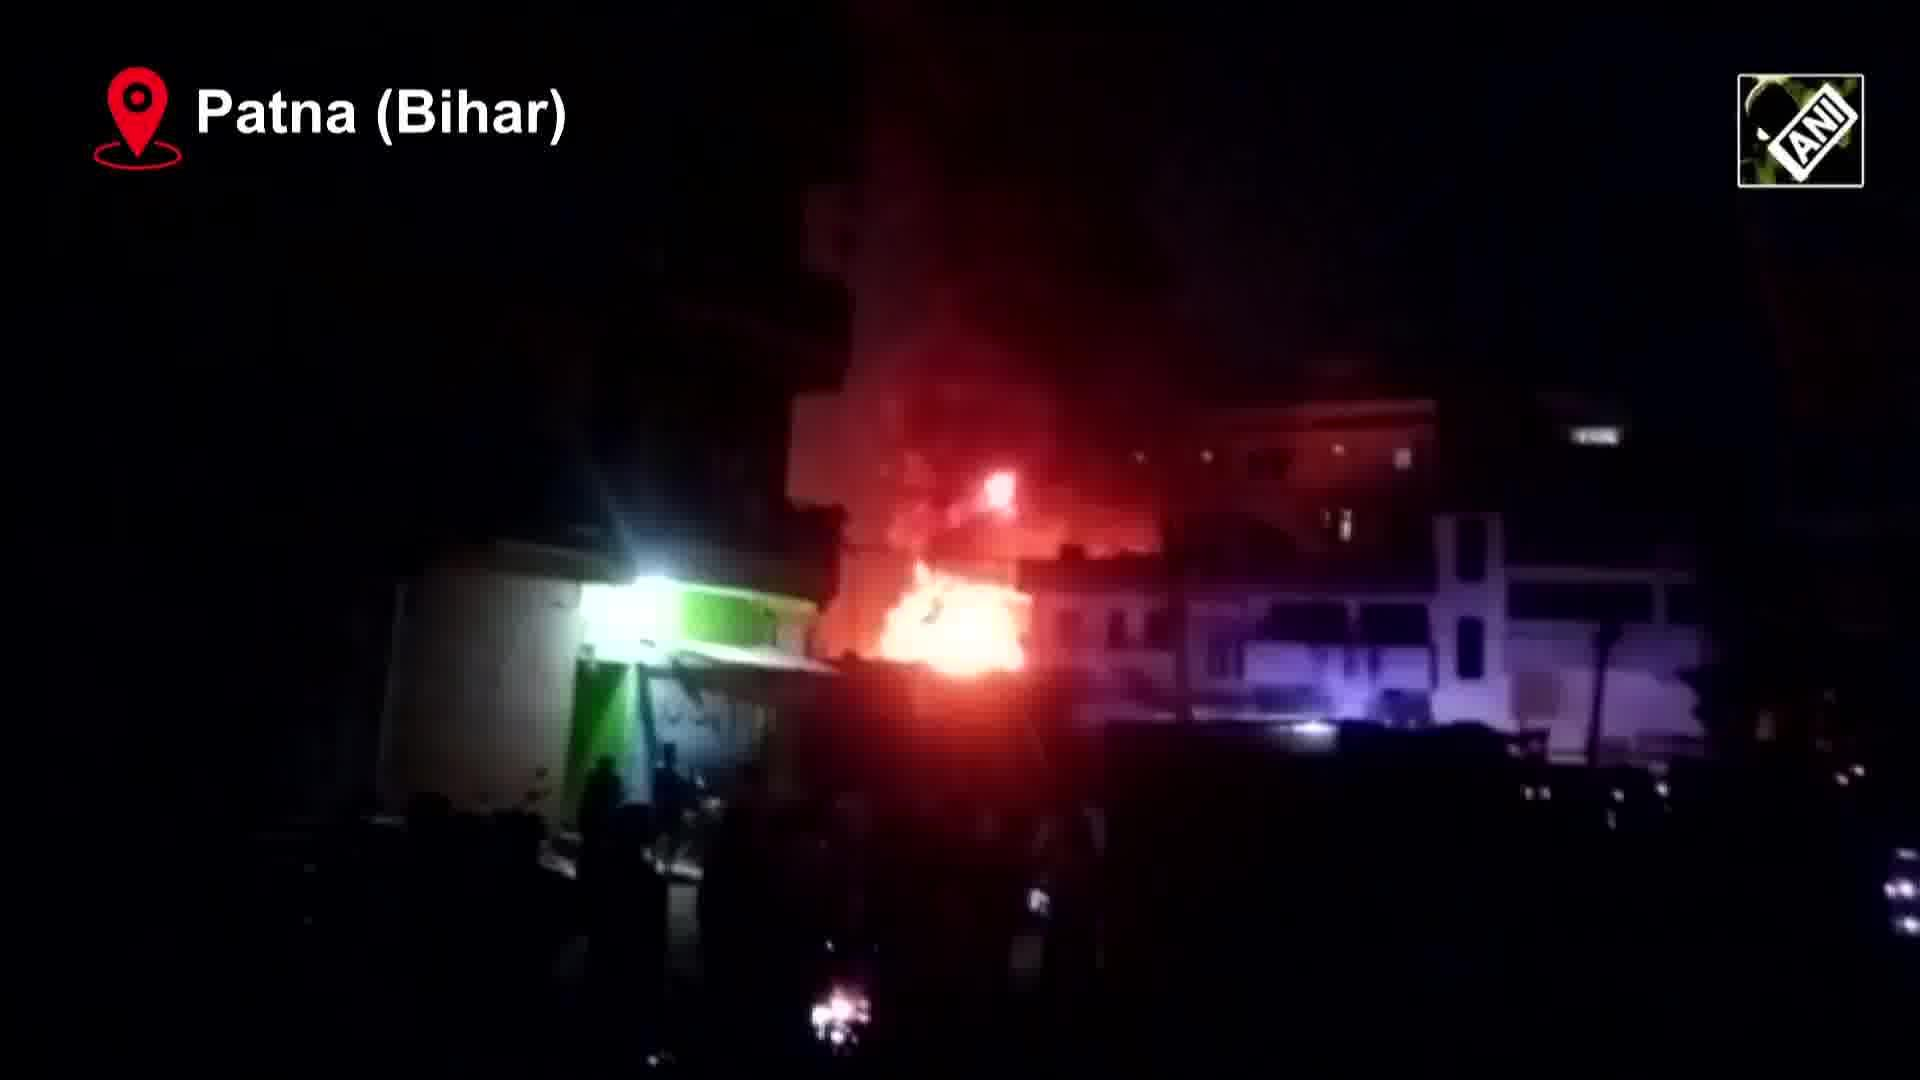fire: (885, 558, 1019, 686), (976, 464, 1015, 504)
